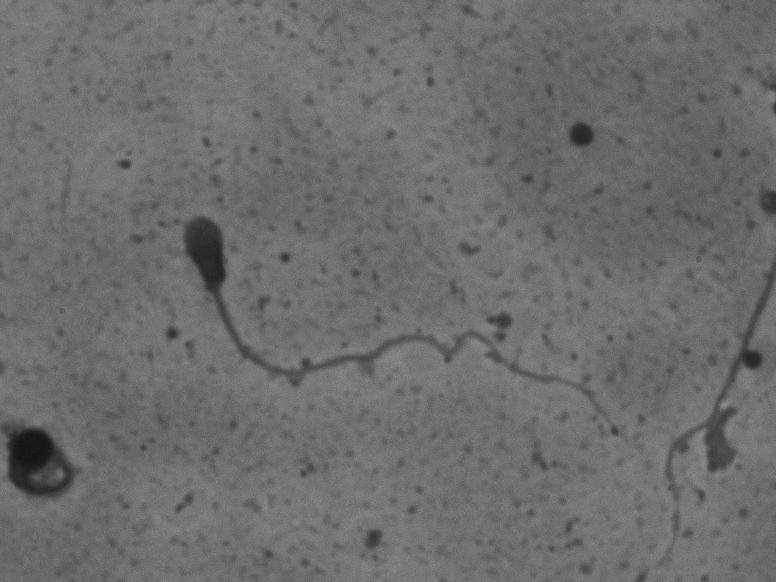Abnormal: (162, 201, 636, 465)
